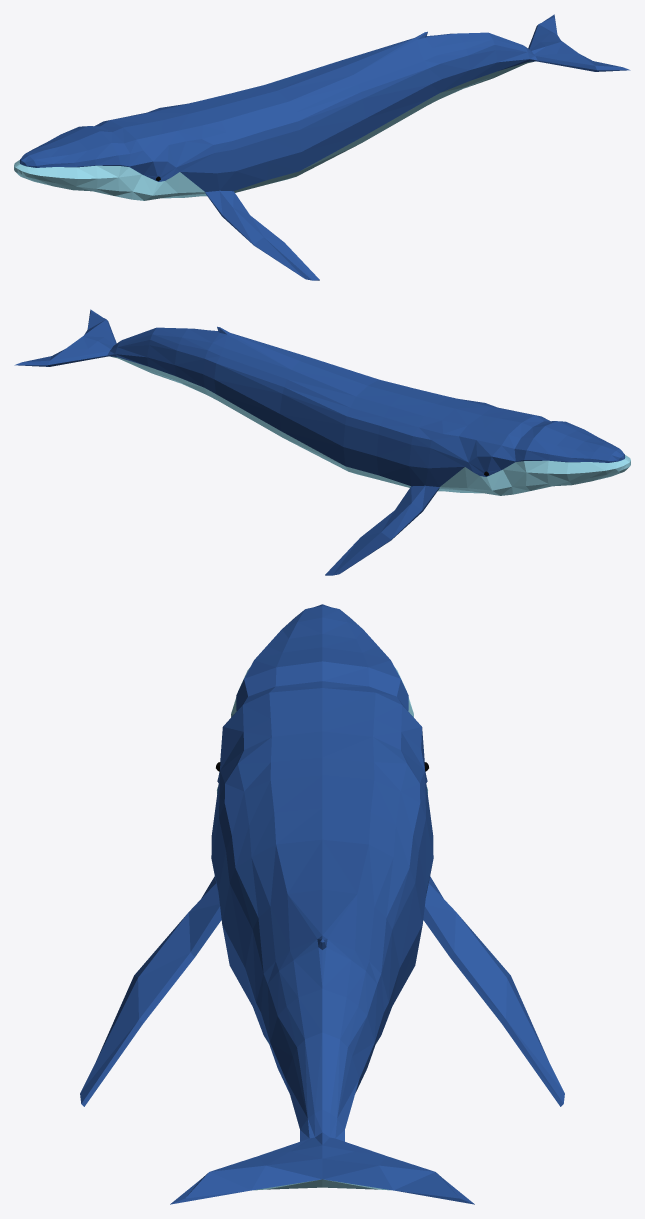
The model's file is balena.gltf.
3 renders of one model, top to bottom at view 1: azimuth 30°, elevation 25°; view 2: azimuth 150°, elevation 25°; view 3: azimuth 270°, elevation 25°, orthographic. The views are drawn at different scales.
Parts seen in each view (by area): view 1: Whale_Plane; view 2: Whale_Plane; view 3: Whale_Plane.
Boxes of the visible parts, x1,y1,x2,y2 form: Whale_Plane: [14, 14, 630, 280]; Whale_Plane: [14, 309, 630, 575]; Whale_Plane: [80, 604, 564, 1204].
Bounding box in the file's own units: 4.71 × 1.28 × 1.71.
